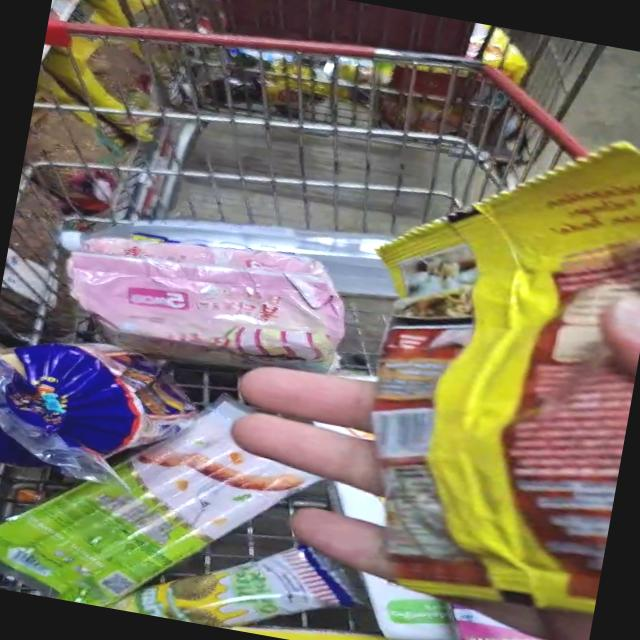Maggi Cukup Rasa: (310, 96, 640, 627)
Roti: (162, 523, 321, 640)
Ubat Gigi: (434, 602, 570, 640)
